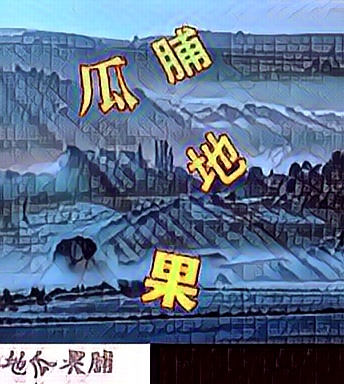B5D8: (185, 128, 246, 193)
B8AC: (150, 22, 211, 87)
B9CF: (77, 53, 138, 118)
B9FB: (141, 245, 202, 310)
